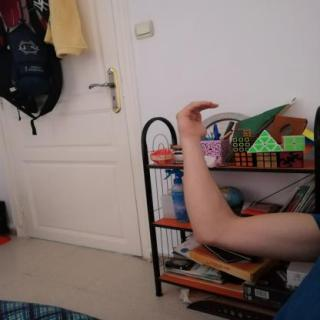HAA: (167, 95, 226, 143)
